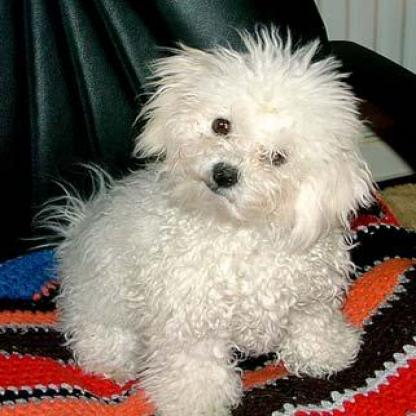toy_poodle: (41, 23, 381, 414)
